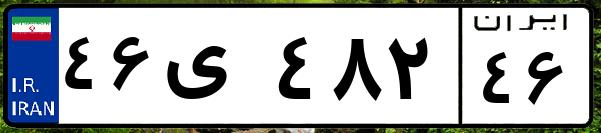2: (385, 28, 445, 110)
4: (270, 28, 330, 110), (57, 26, 110, 100), (475, 38, 525, 113)
6: (525, 38, 570, 115), (110, 28, 158, 98)
8: (330, 28, 385, 110)
ی: (158, 20, 270, 120)
